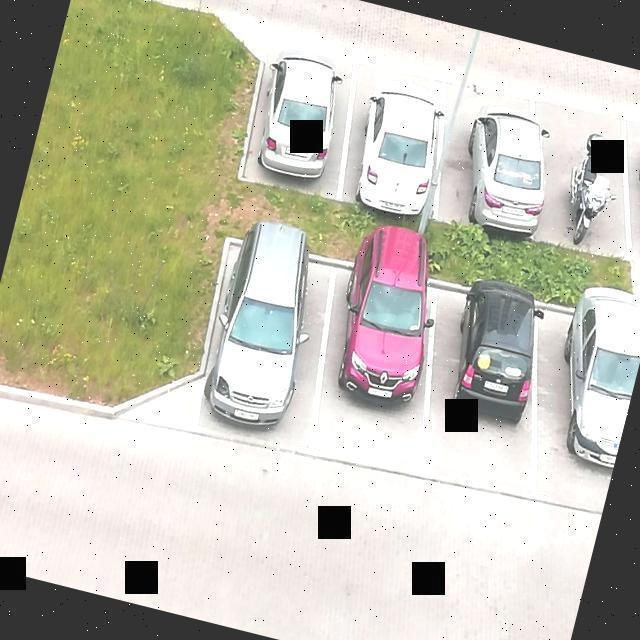space-occupied: (286, 247, 466, 482), (183, 230, 346, 463), (392, 270, 558, 498), (518, 287, 640, 514), (516, 90, 640, 255), (425, 75, 550, 236), (240, 36, 365, 195), (333, 59, 457, 215), (603, 108, 640, 272)
